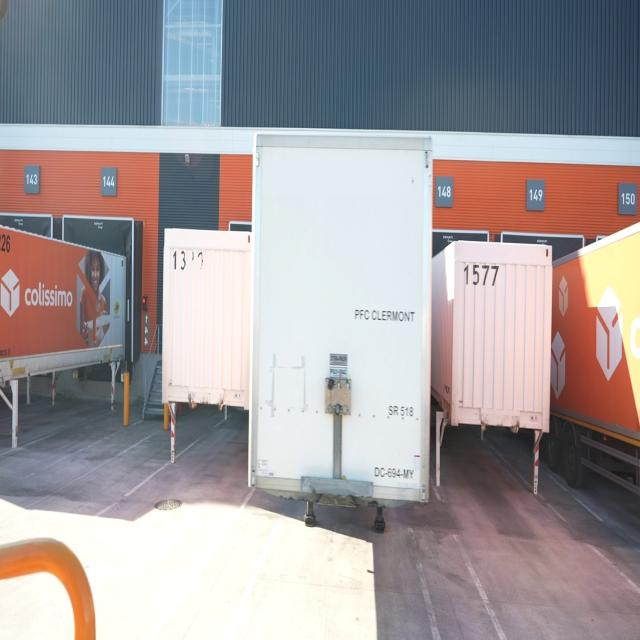Code: (461, 259, 505, 290)
